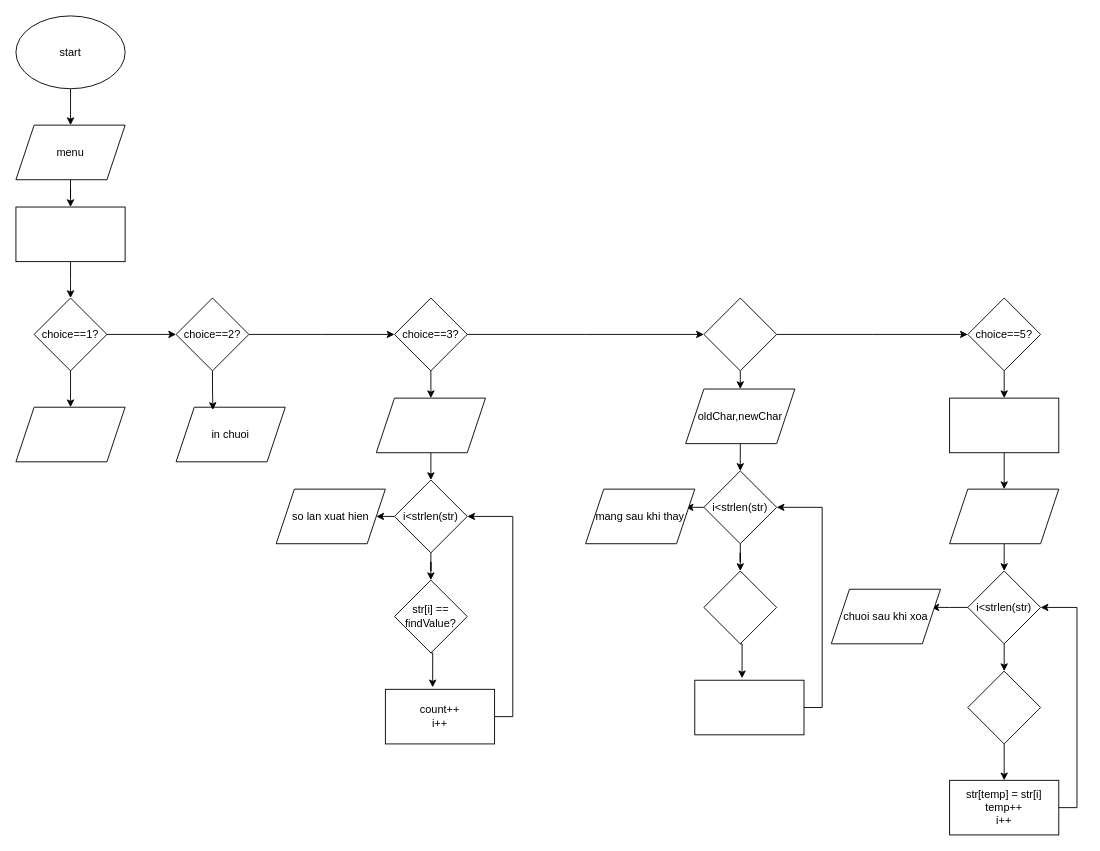
This 1100x851 diagram has some shape labels left out. The shapes that lost their labels are listed below. From the top down, each one's centre as x and y in pixels, then its label:
At pixel 70 234: "newChar,oldChar str[100], count = 0, choice temp".
At pixel 740 334: "choice==4?".
At pixel 70 434: "nhap chuoi".
At pixel 430 425: "findValue".
At pixel 1004 425: "temp = 0".
At pixel 1004 516: "delValue".
At pixel 740 607: "str[i] == oldChar?".
At pixel 749 707: "str[i] = newChar i++".
At pixel 1004 707: "str[i] != delValue?".
